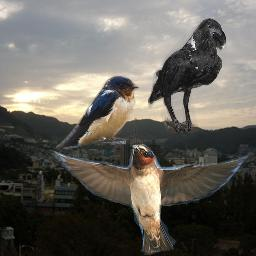Crow: (148, 18, 227, 133)
Swallow: (49, 144, 249, 255), (56, 75, 140, 149)
